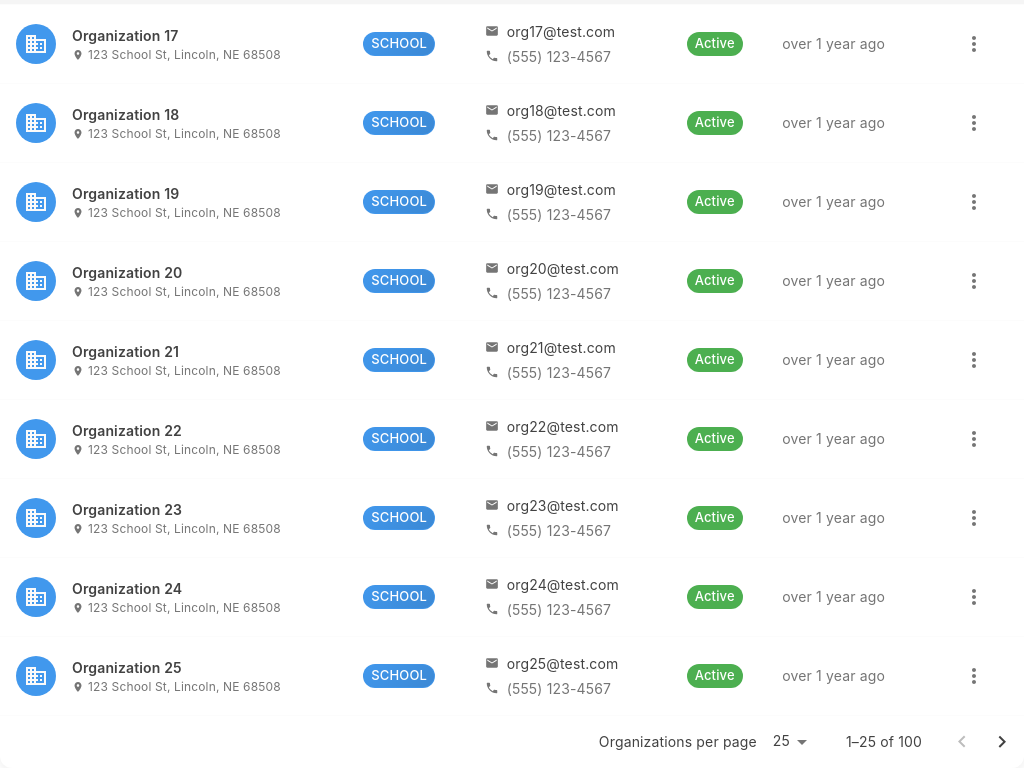
Test: OrganizationList › Pagination › changes page when next button is clicked
(page scrolled)
Click the button named "go to next page" at (1002, 742), box [982,722,1022,762]
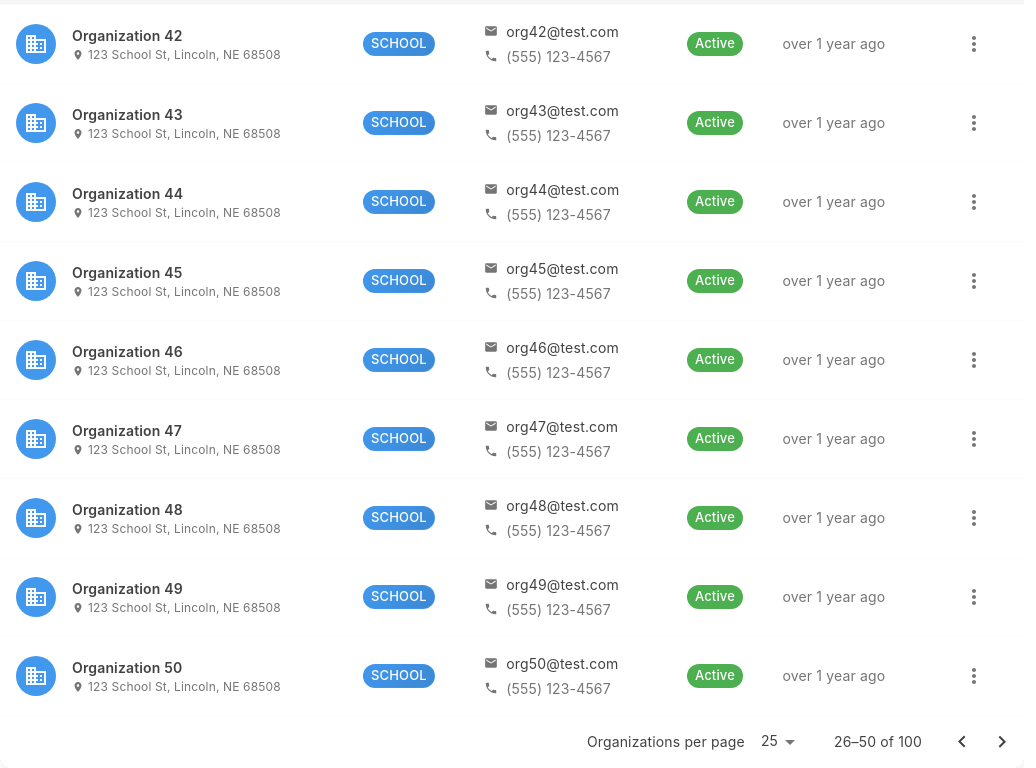
Now the text "26–50 of 100" is shown, box [834,732,922,752]
